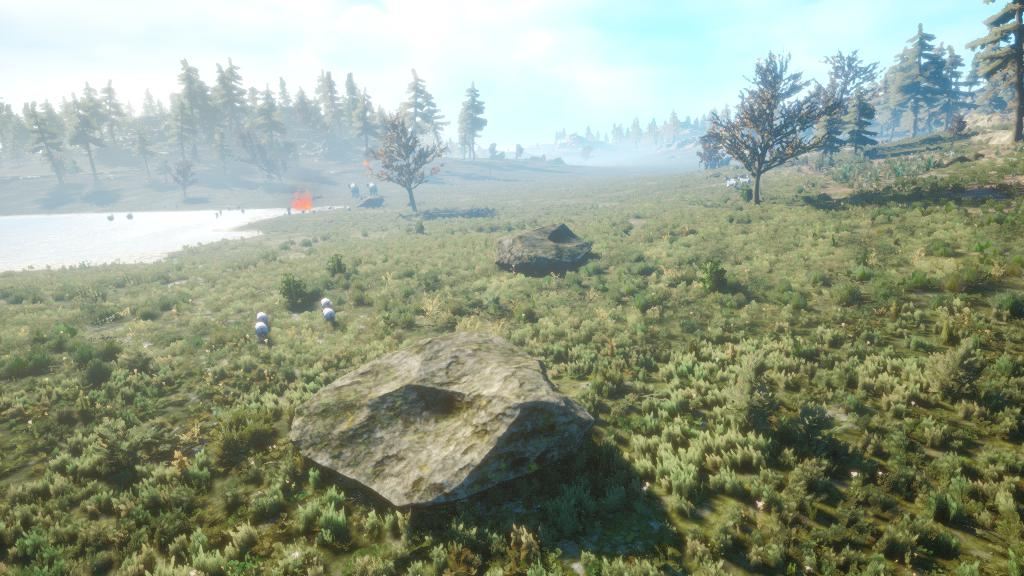Fire: (279, 191, 320, 217), (359, 156, 379, 174)
elephant: (345, 179, 363, 201), (364, 180, 381, 198)
pig: (243, 322, 280, 341), (320, 306, 338, 323), (316, 297, 337, 309), (256, 312, 270, 326)
